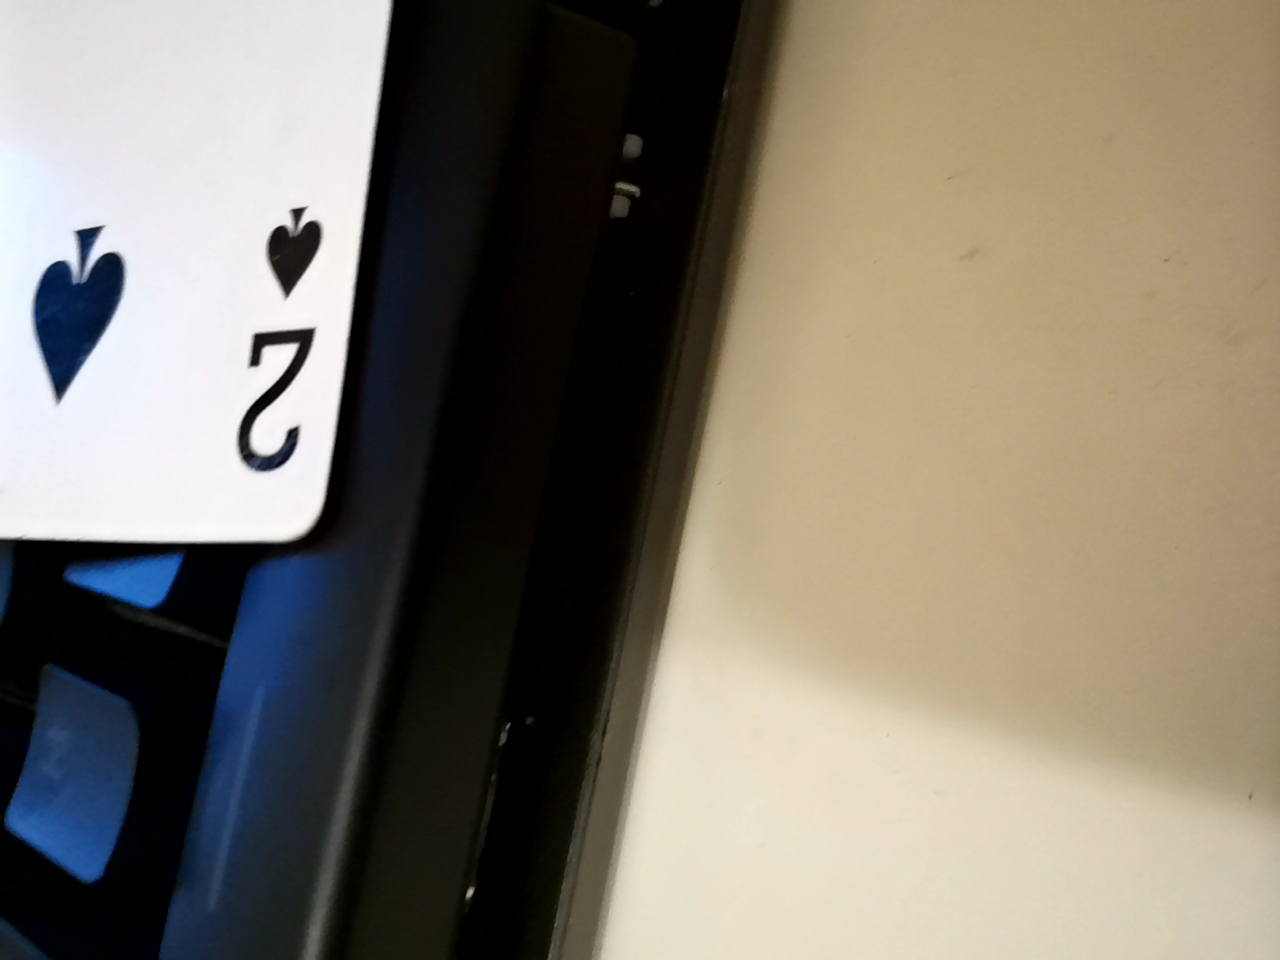ht 2: (7, 0, 470, 586)
